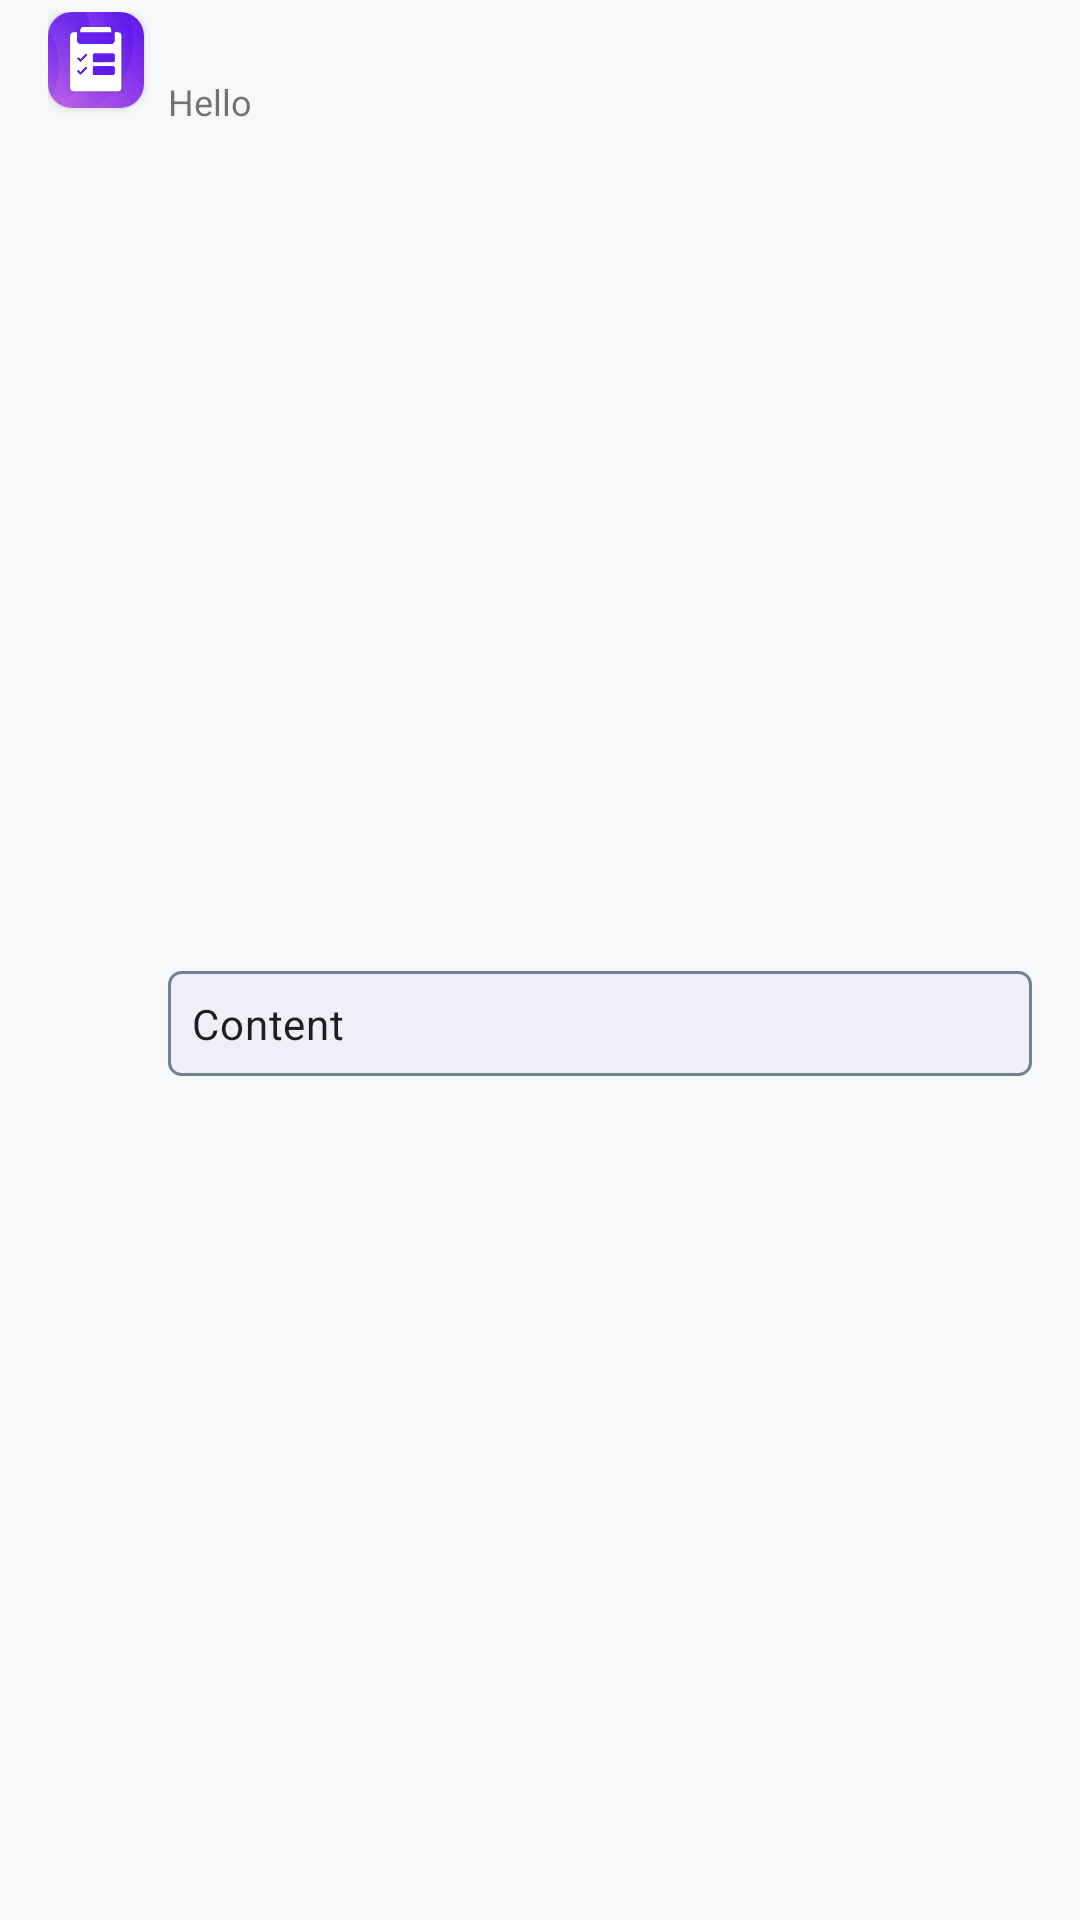

Icon click points for this 1080px x 1920px phone screenshot, format (x,y):
app: (96,60)
